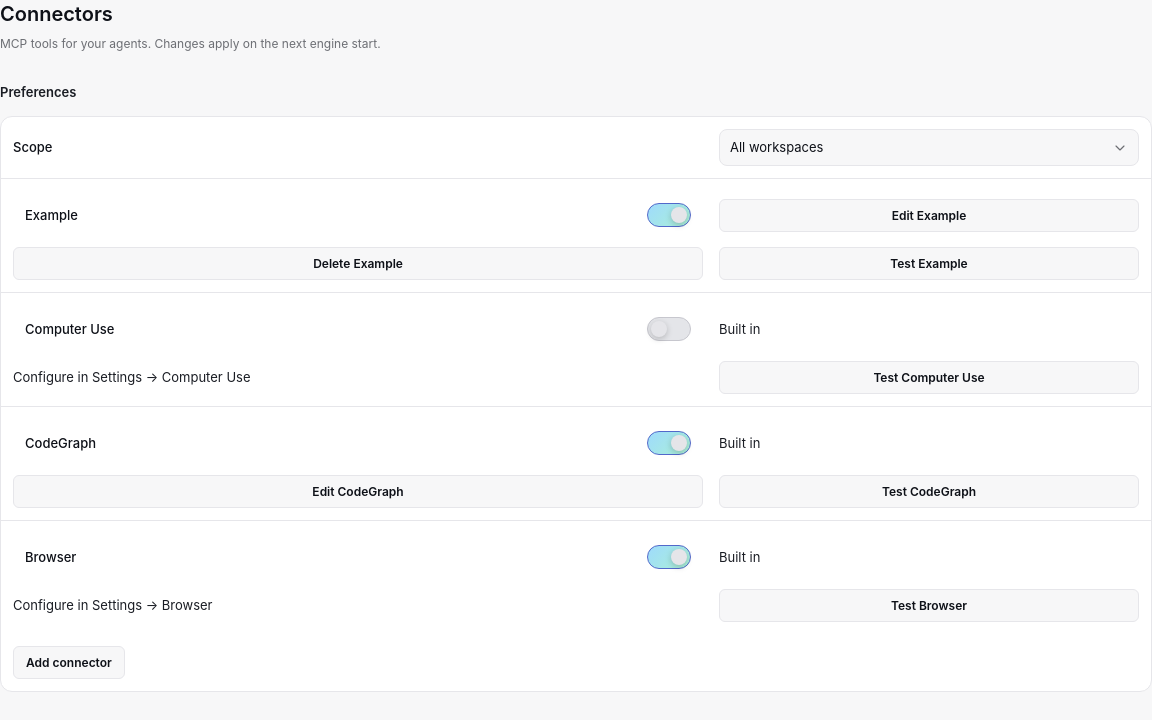
Test: Connectors settings › shows tools, descriptions, latency and actionable errors
Click the button "Test Example" at [929, 264], box [719,247,1139,280]
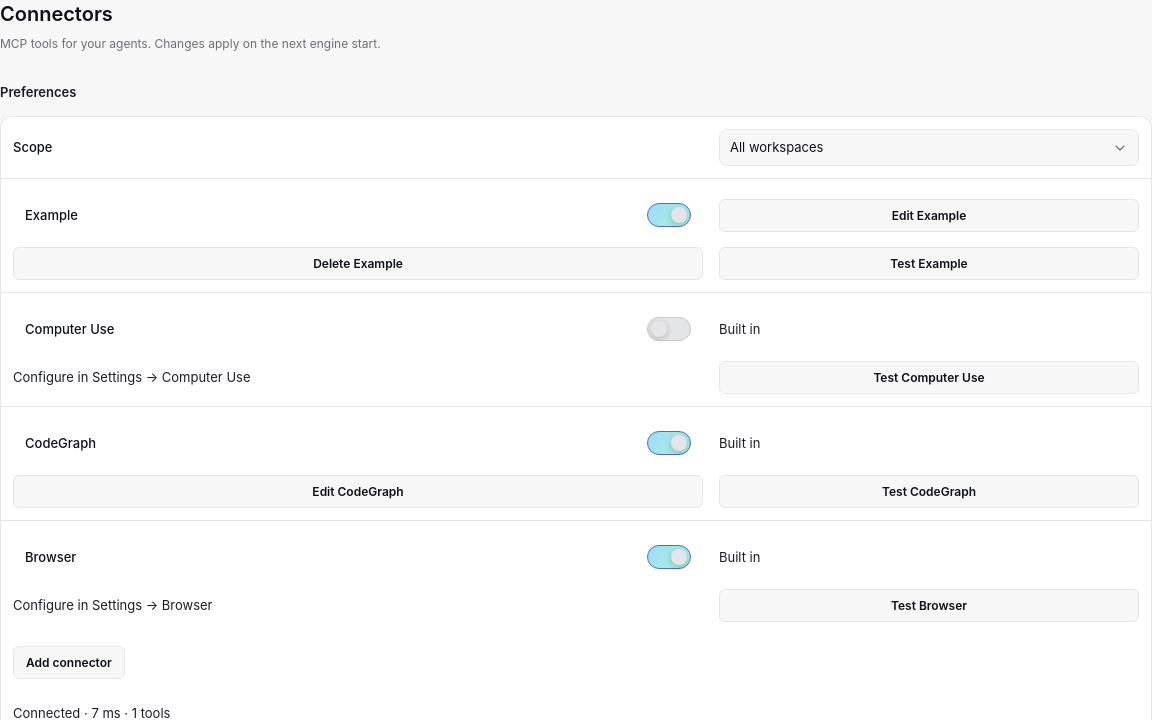
Expected: the text "Connected · 7 ms · 1 tools" is shown, [13,705,170,719]
Click the button "Test Example" at [929, 264], box [719,247,1139,280]
(page scrolled)
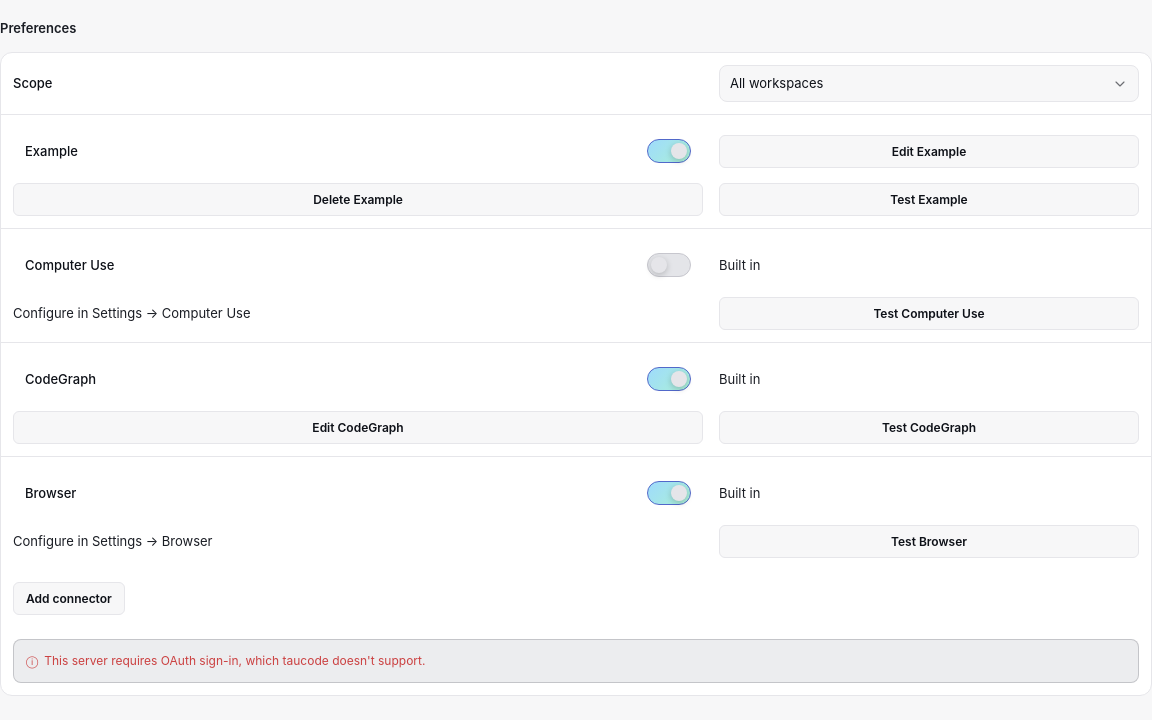
Expected: the message shows "OAuth sign-in", [44,653,426,668]
